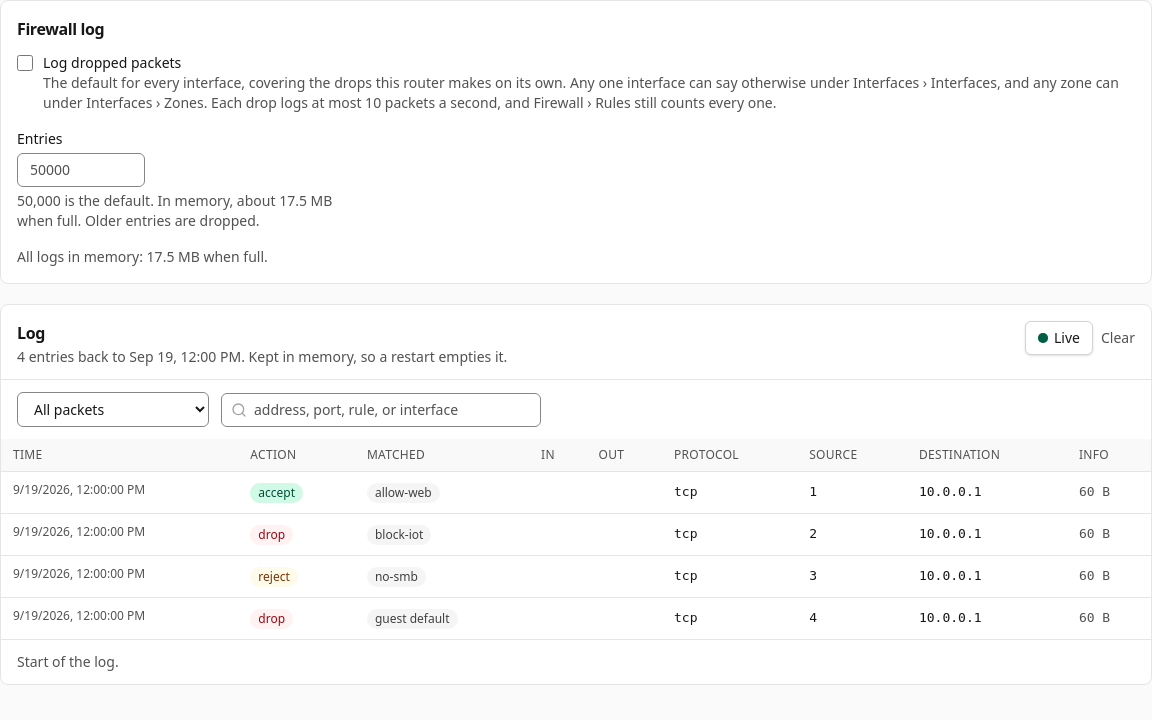
LogPage › clears the router’s log on Clear, once asked
What coordinates should you click on to do the following:
click the button "Clear"
I would click on:
 (1118, 338)
Its box is [1101,328,1135,348].
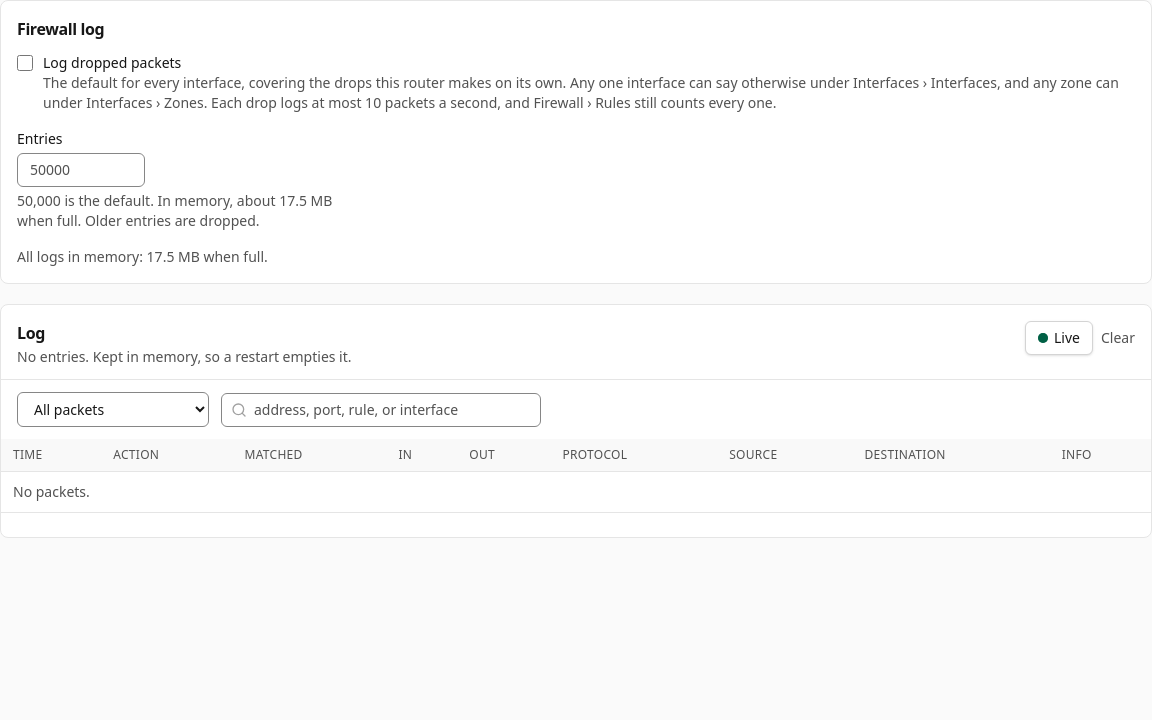
Expected: the row "No packets." is shown, [1,472,1151,512]
